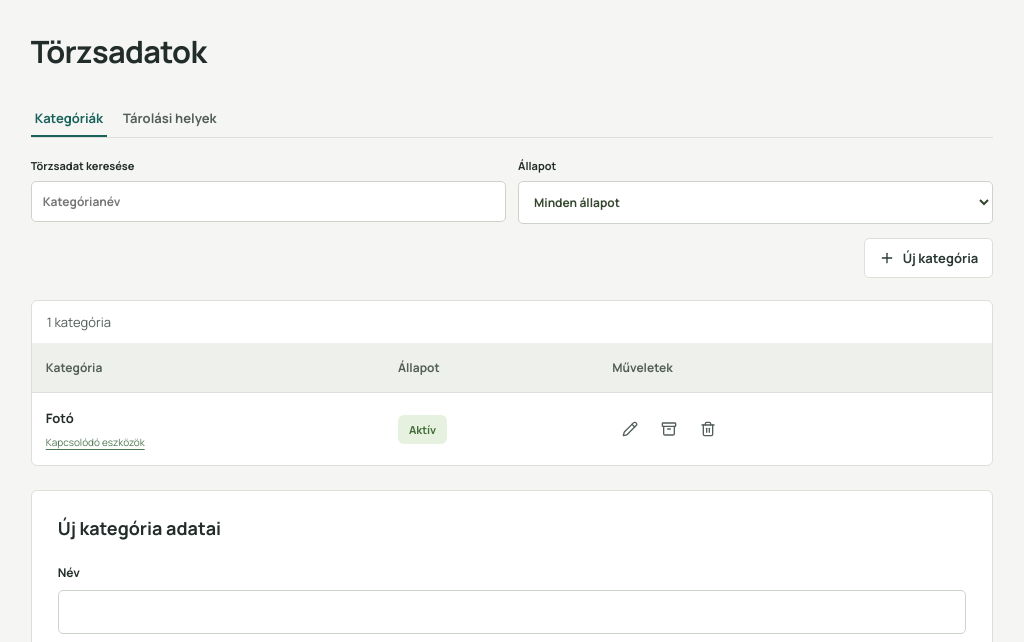
Test case: törzsadatok › szerkesztéskor az eredeti verziót küldi és nem állít aktivitást
Click the button named "Fotó szerkesztése": (630, 429) [612, 411, 648, 447]
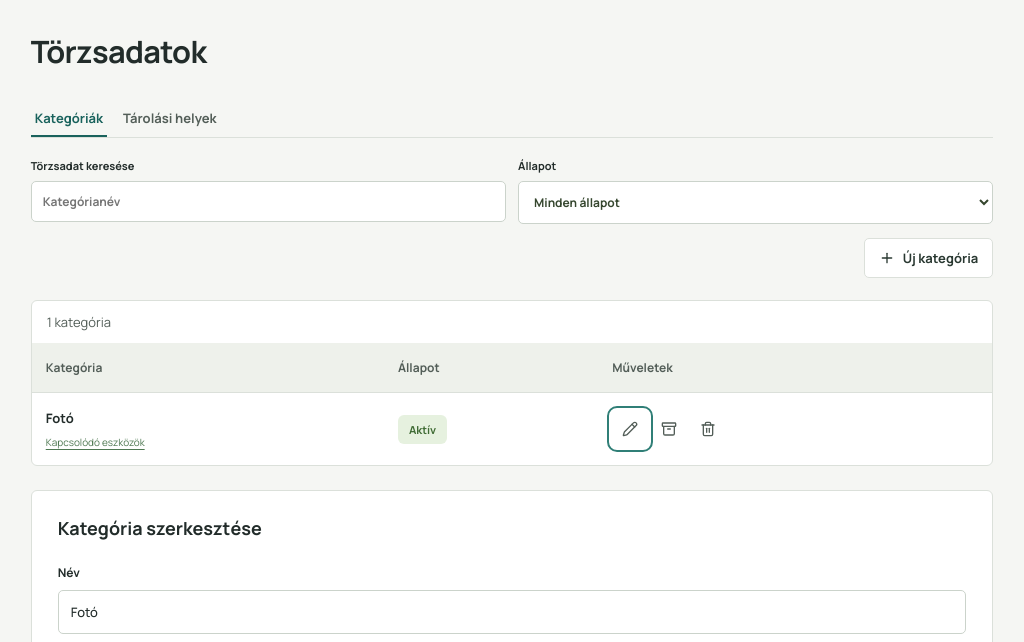
Replace the text in the field labelled "Név" with "Fotó és videó": (512, 612) [58, 590, 966, 634]
(page scrolled)
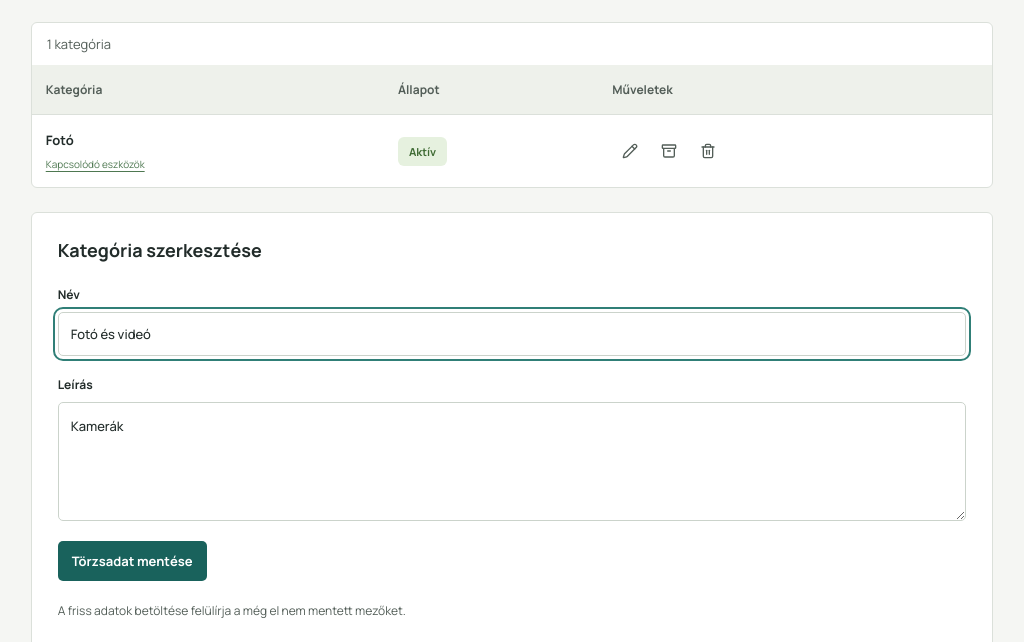
Click the button "Törzsadat mentése": (132, 562) [58, 542, 207, 582]
(page scrolled)
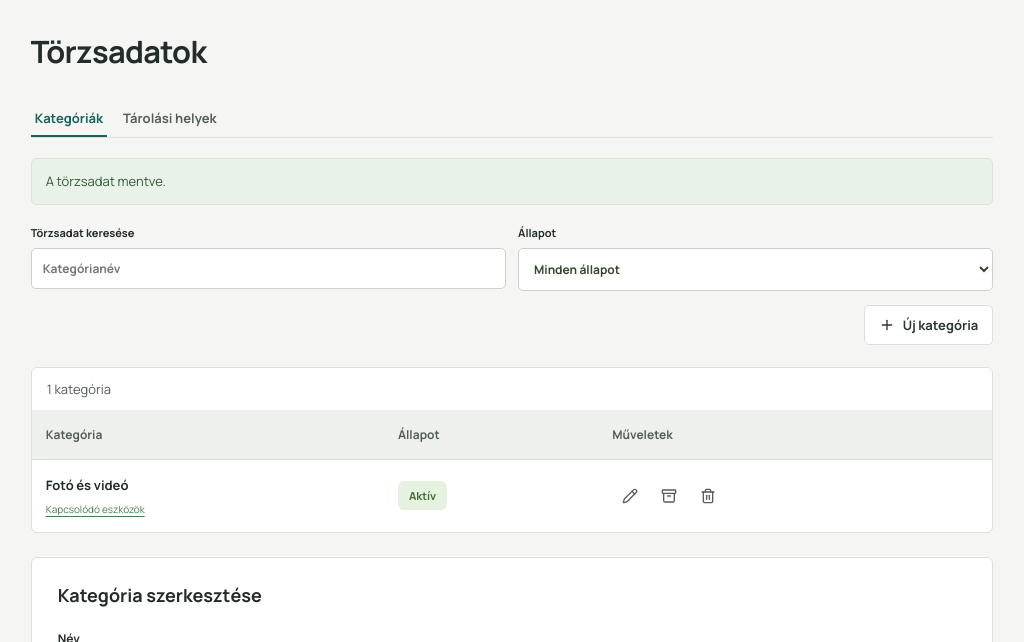
Expected: the message shows "mentve", [46, 172, 166, 190]
